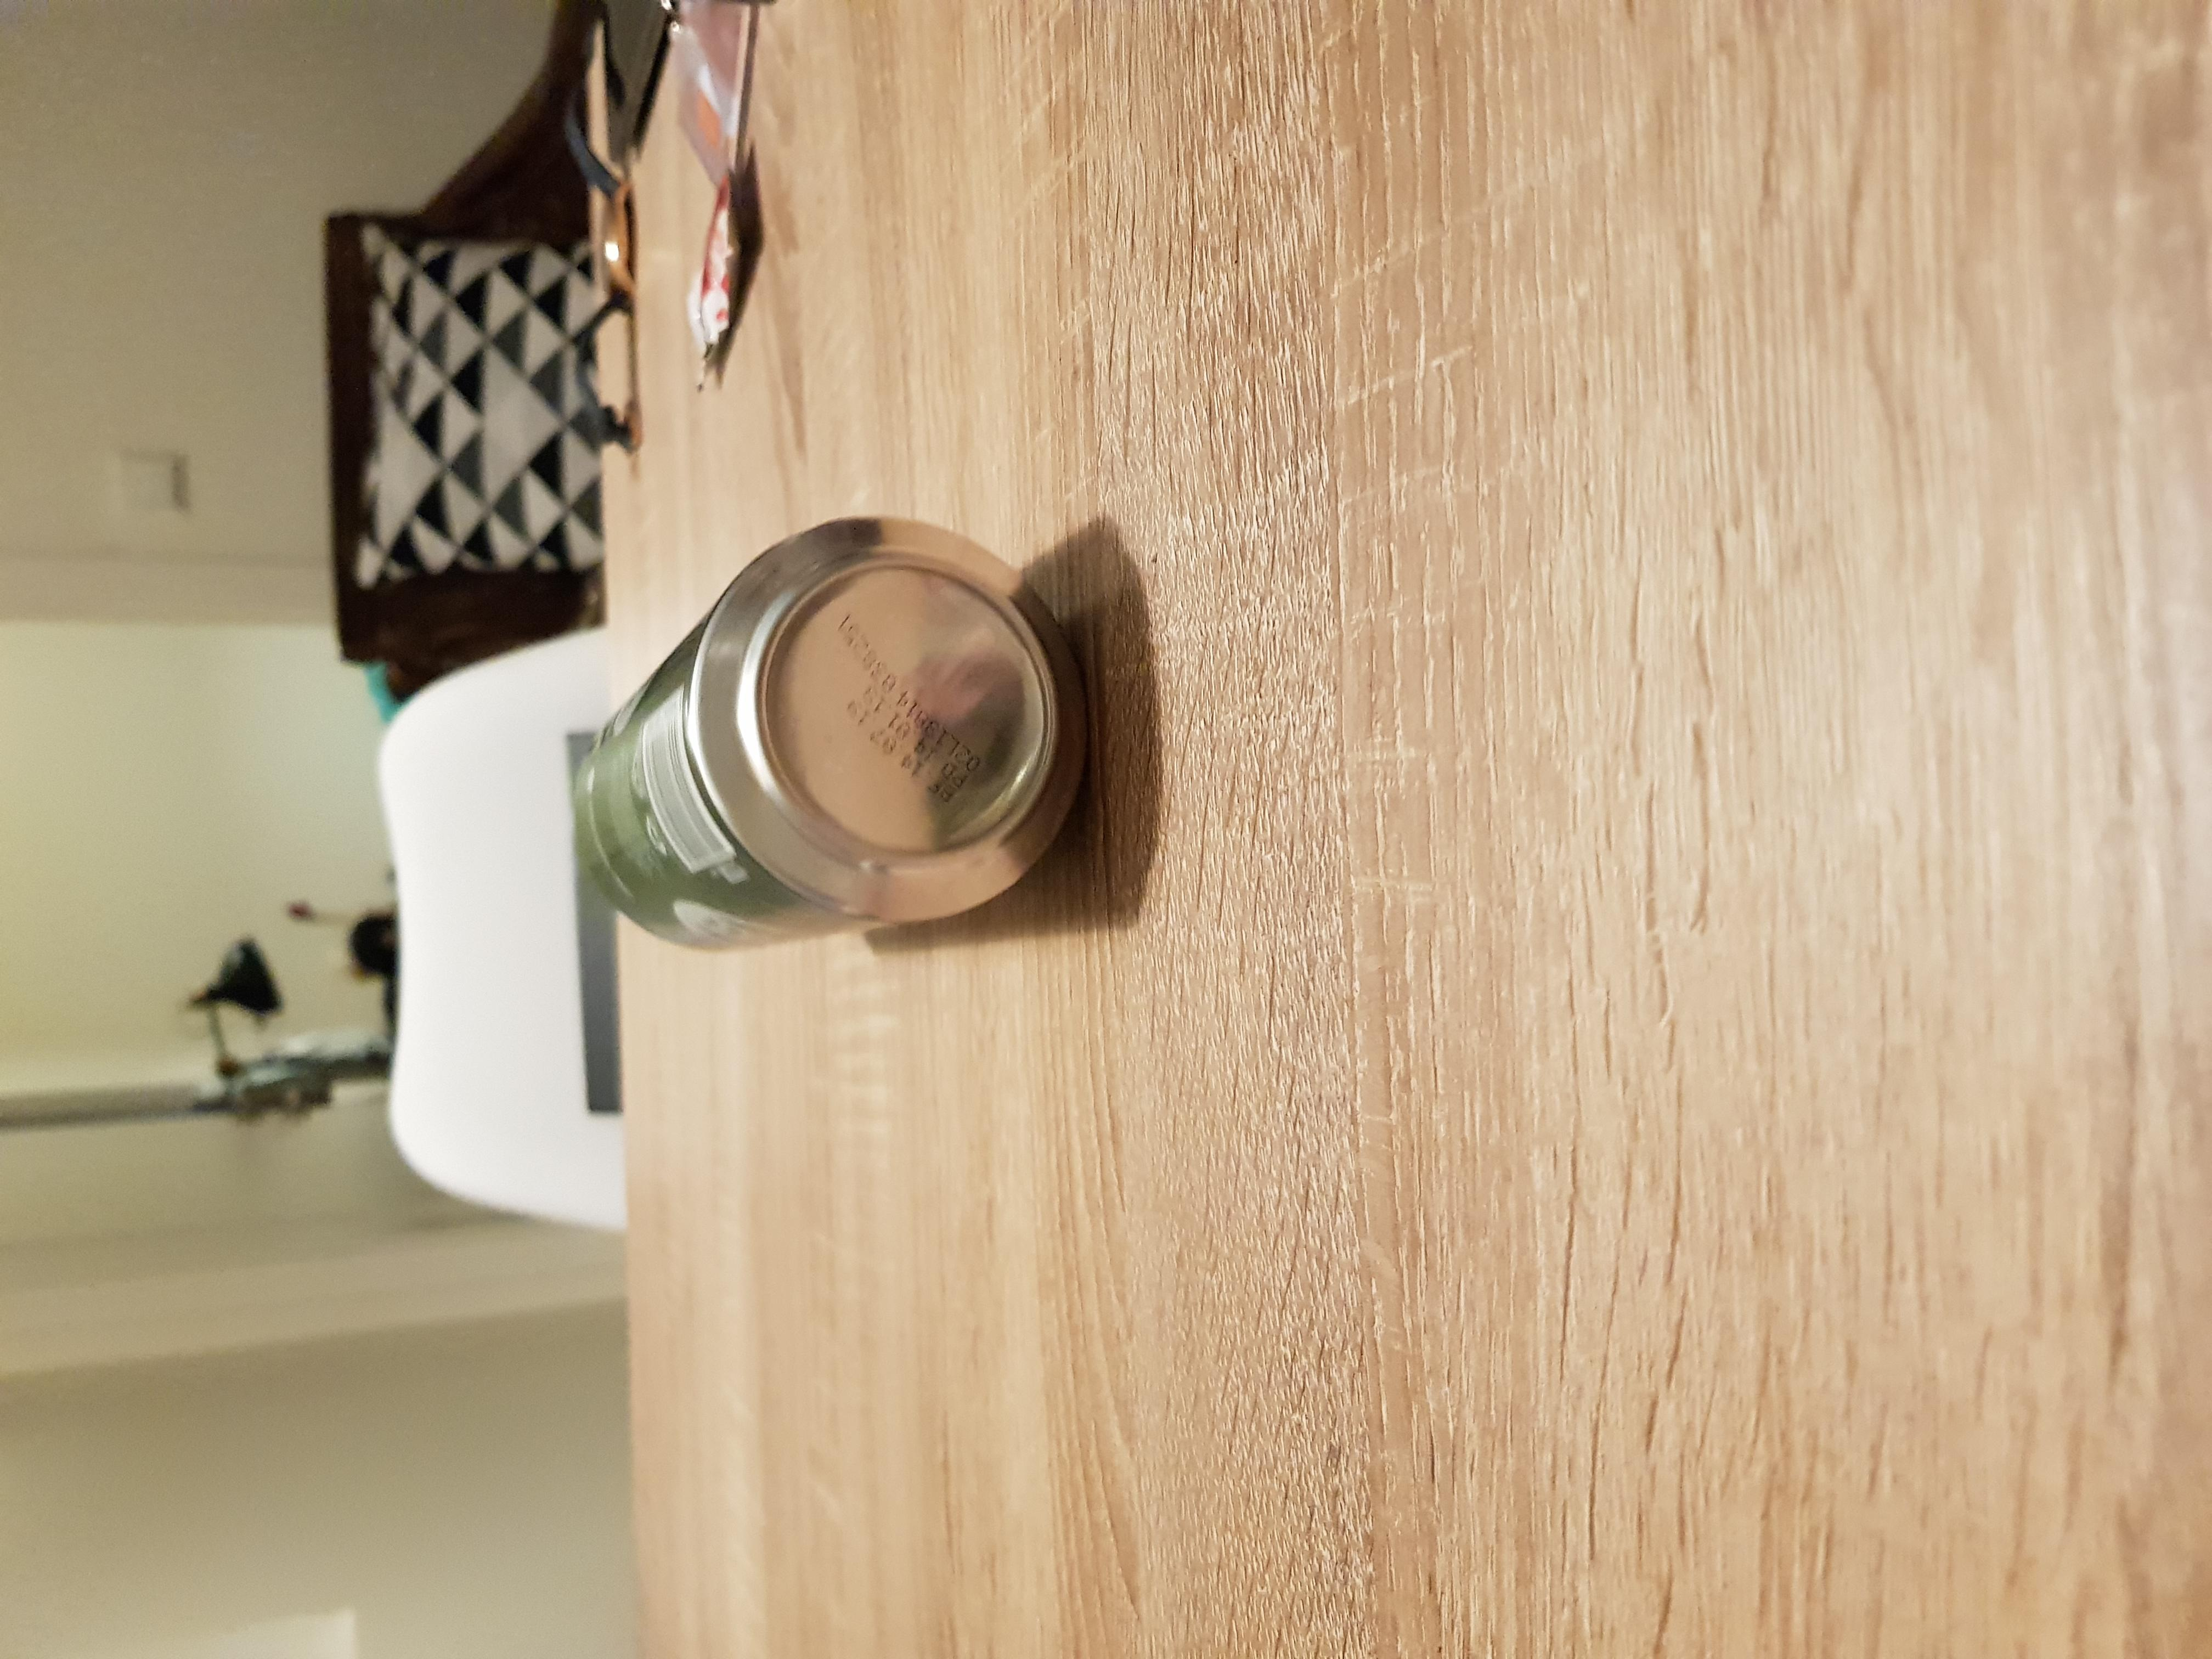can: (563, 505, 1075, 951)
